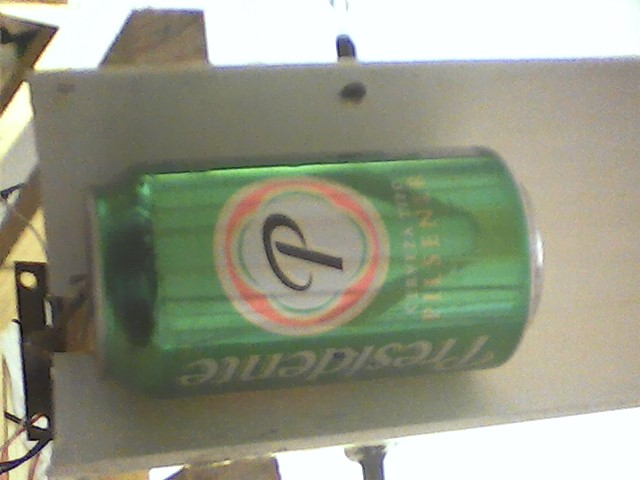lata: (75, 141, 555, 402)
